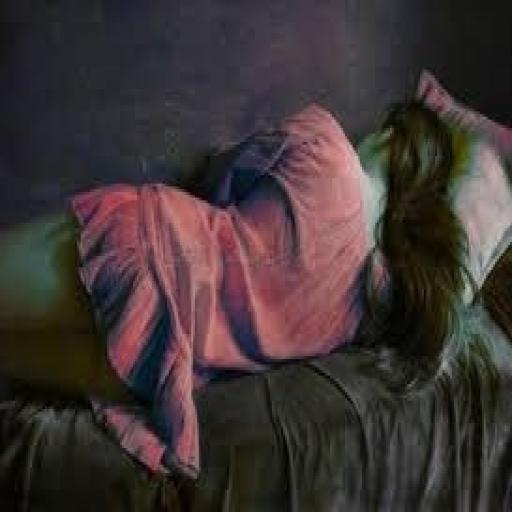sleeping: (2, 72, 510, 510)
